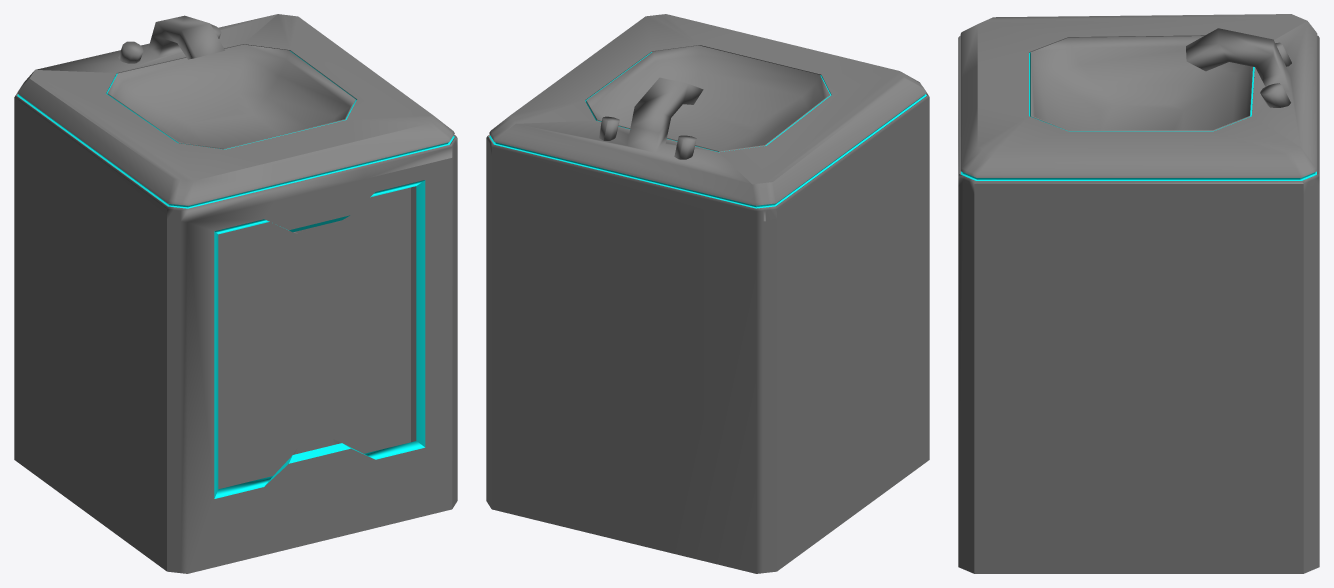
File: bathroomSink.glb
3 views of the same model, side by side, from view 1: azimuth 30°, elevation 25°; view 2: azimuth 150°, elevation 25°; view 3: azimuth 270°, elevation 25° (orthographic). The views are drawn at different scales.
Parts seen in each view (by area): view 1: bathroomSink; view 2: bathroomSink; view 3: bathroomSink.
Boxes of the visible parts, box(x1,y1,x2,y2) form: bathroomSink: box(14, 14, 457, 573); bathroomSink: box(486, 14, 929, 573); bathroomSink: box(958, 14, 1319, 573).
Size of the model in its own units: 0.8911 by 1.25 by 0.8911.
